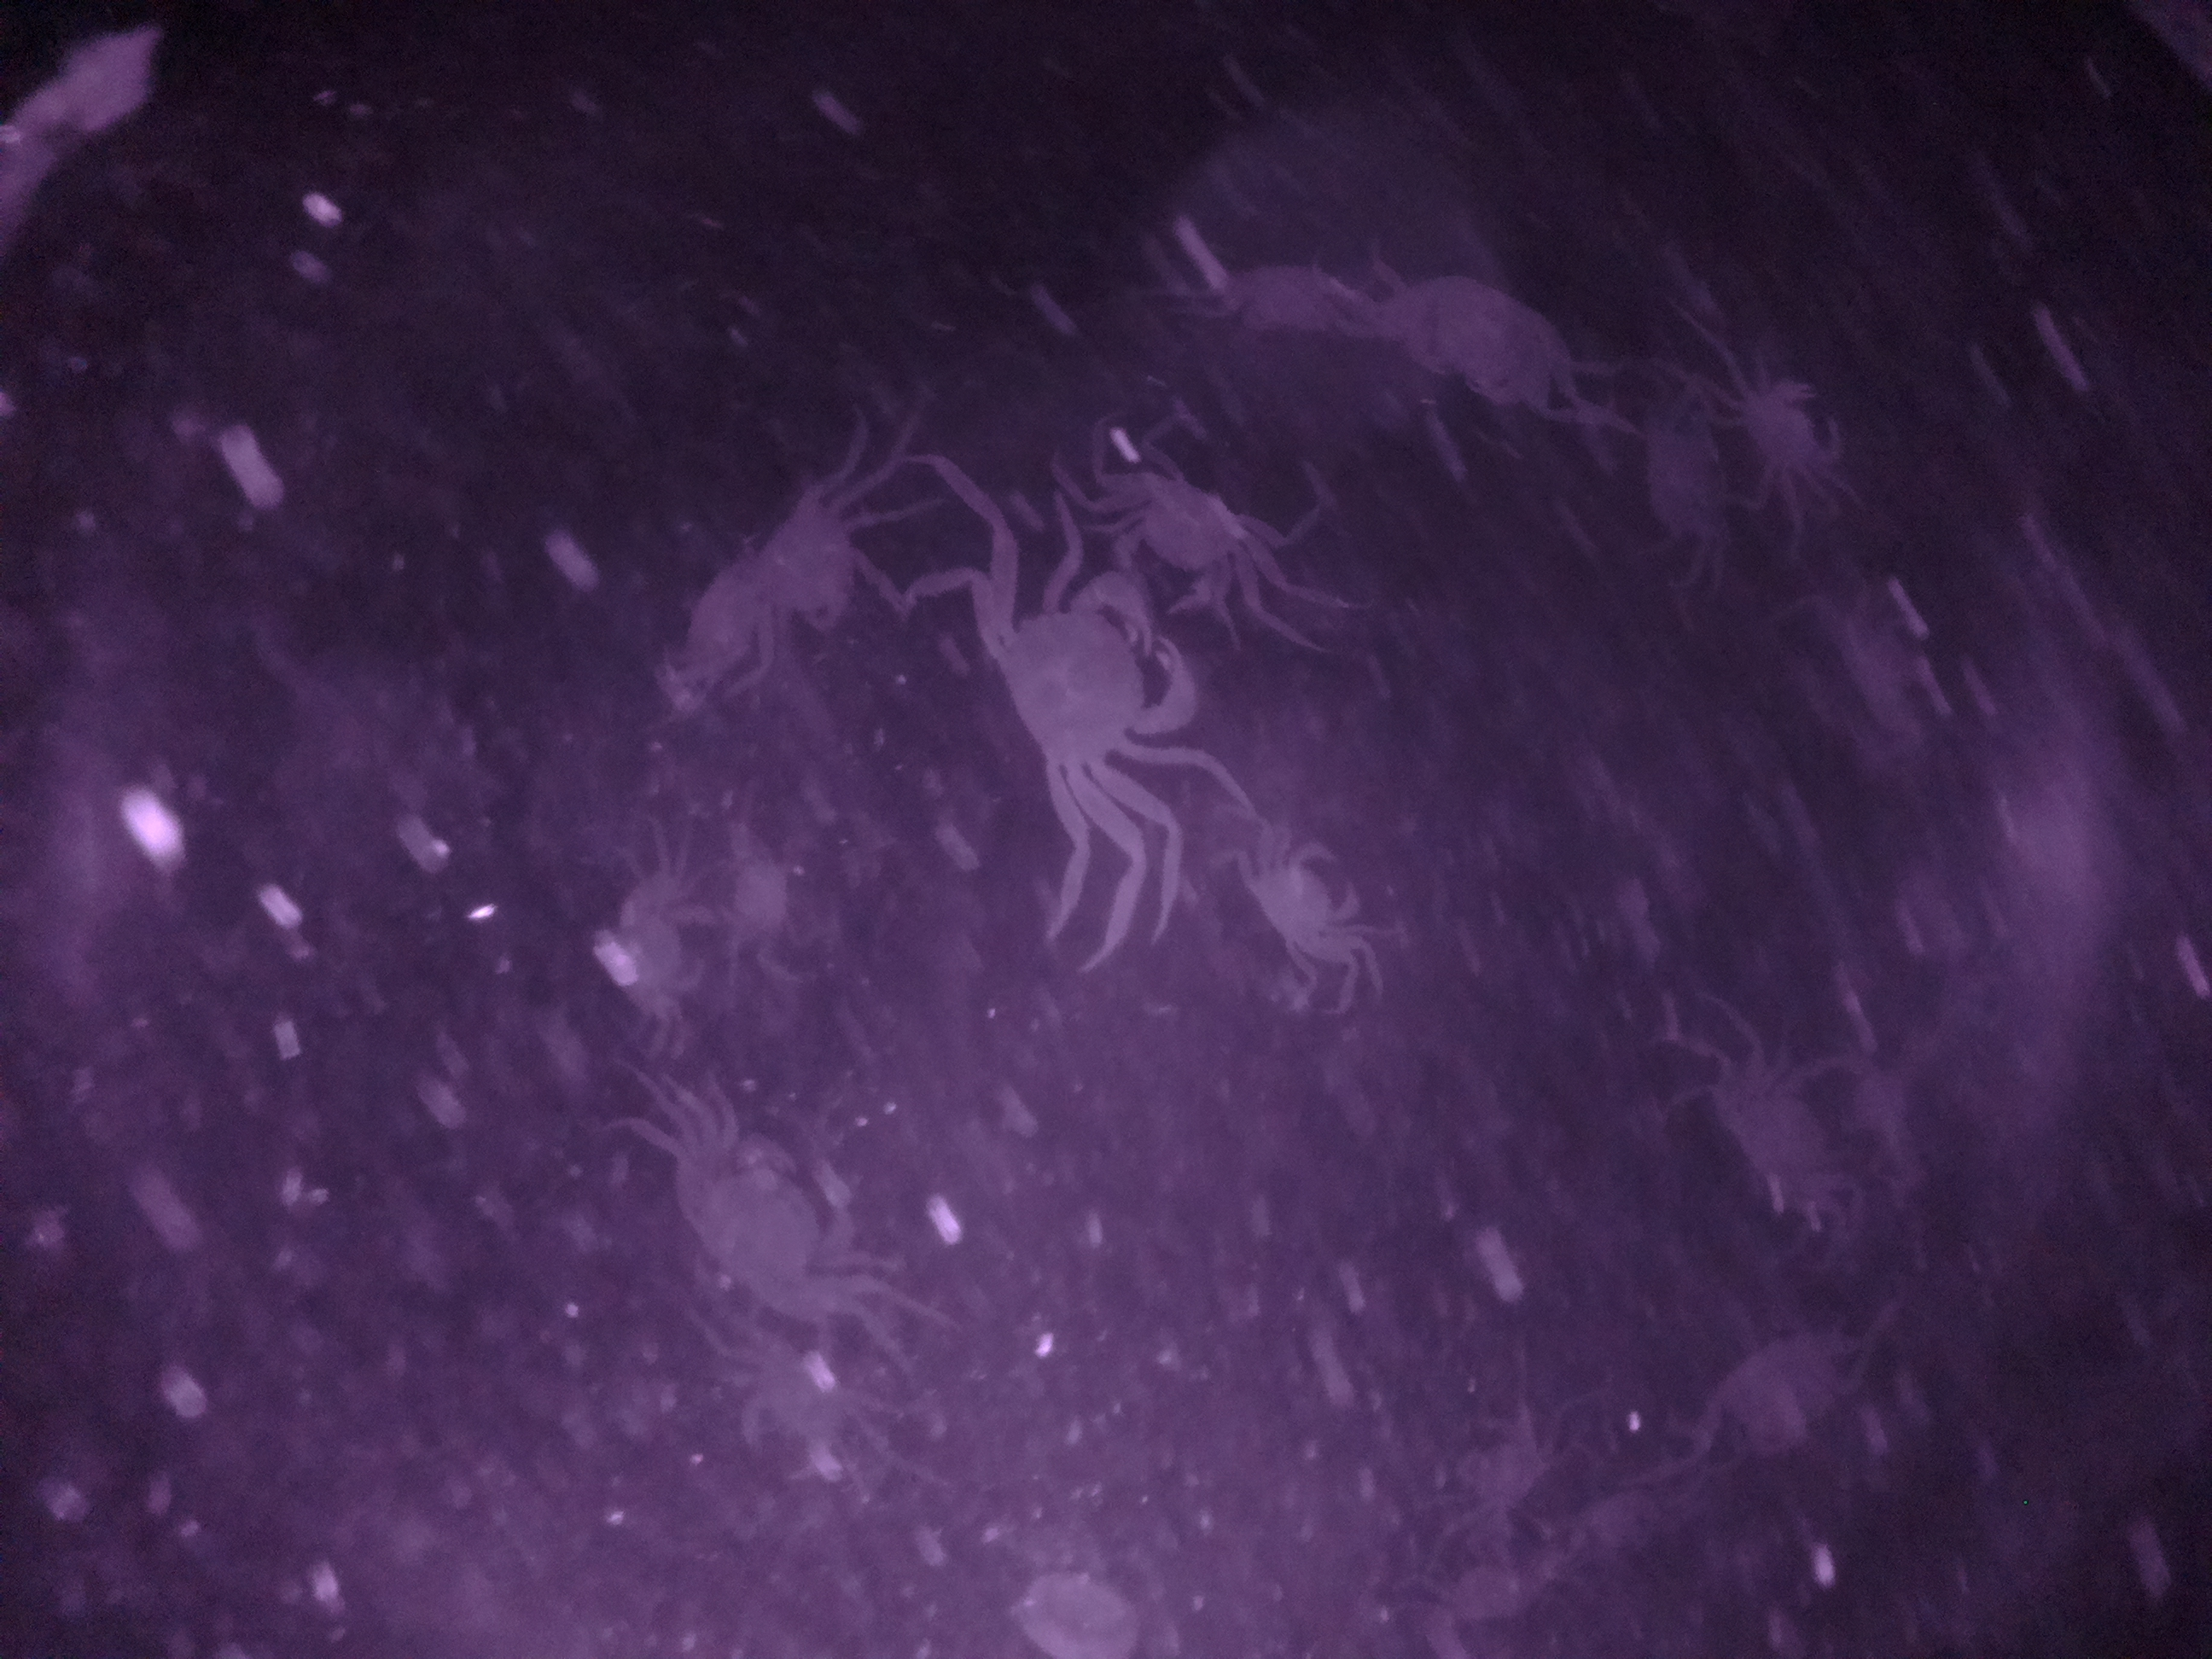Crab: (958, 558, 1190, 842), (653, 1089, 873, 1344), (1092, 451, 1291, 631), (1233, 823, 1367, 978)
